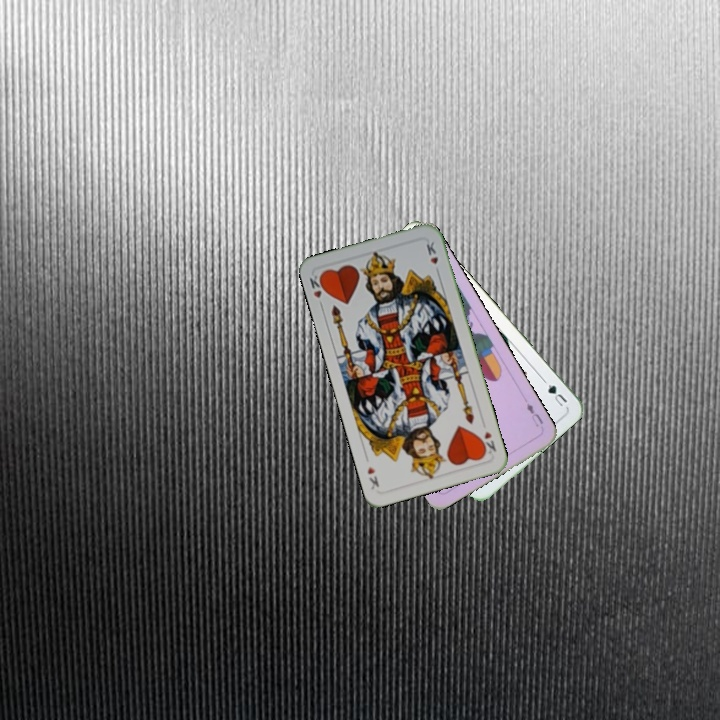EU: (522, 399, 546, 429)
GU: (539, 375, 570, 409)
HK: (305, 269, 329, 311), (476, 427, 499, 457)
